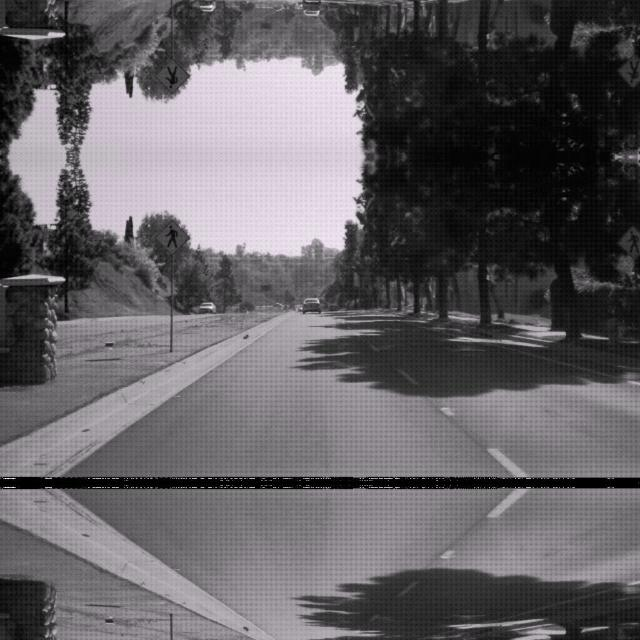pedestrianCrossing: (153, 218, 190, 254), (153, 58, 190, 94)
